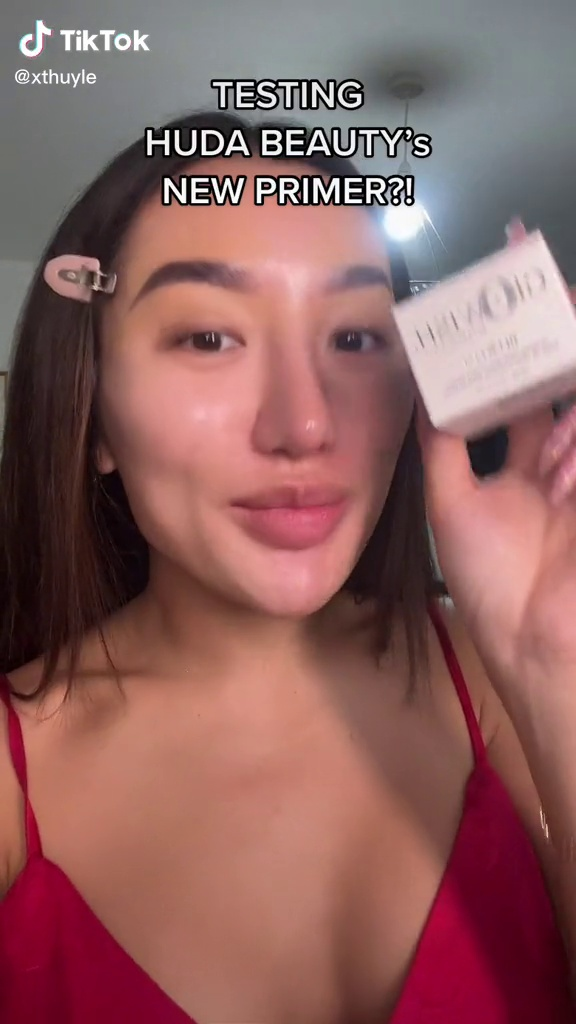train' :'yolo_data/train/images',: (383, 227, 575, 447)
